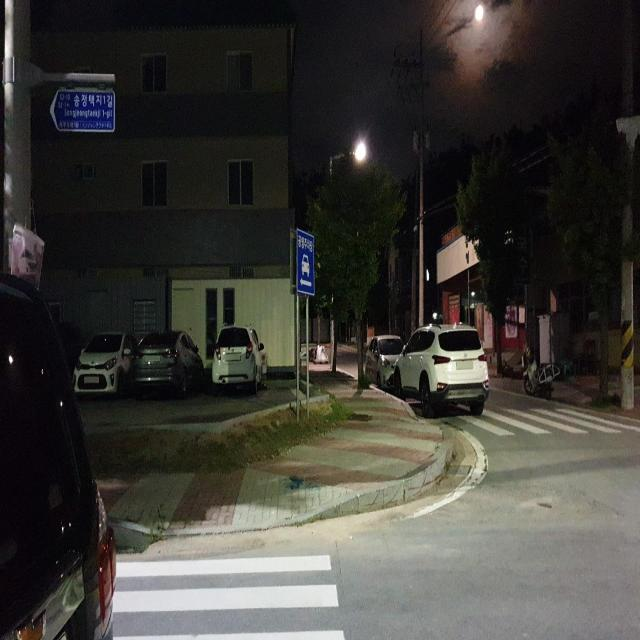횡단보도: (112, 552, 346, 640), (442, 383, 640, 453)
